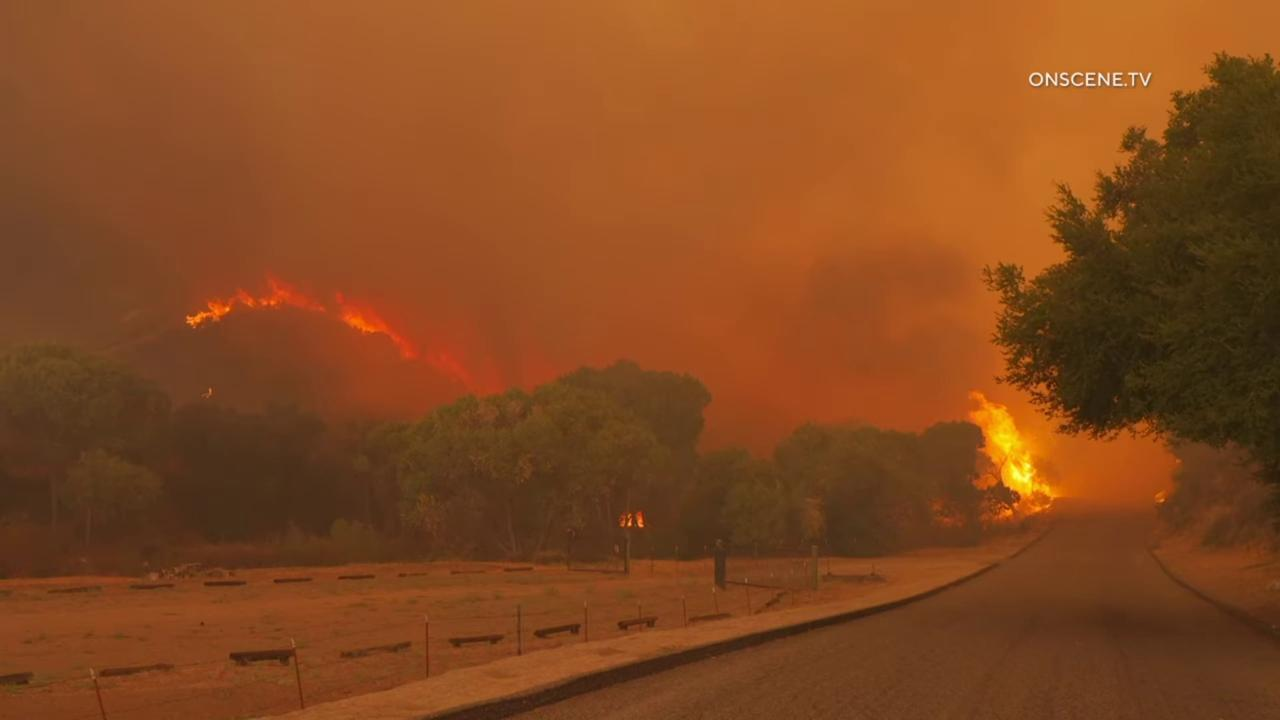fire: (331, 283, 491, 396), (960, 389, 1062, 521), (183, 265, 330, 333), (613, 511, 649, 530), (1152, 489, 1168, 507), (200, 385, 215, 399)
smoke: (0, 0, 1280, 526)
